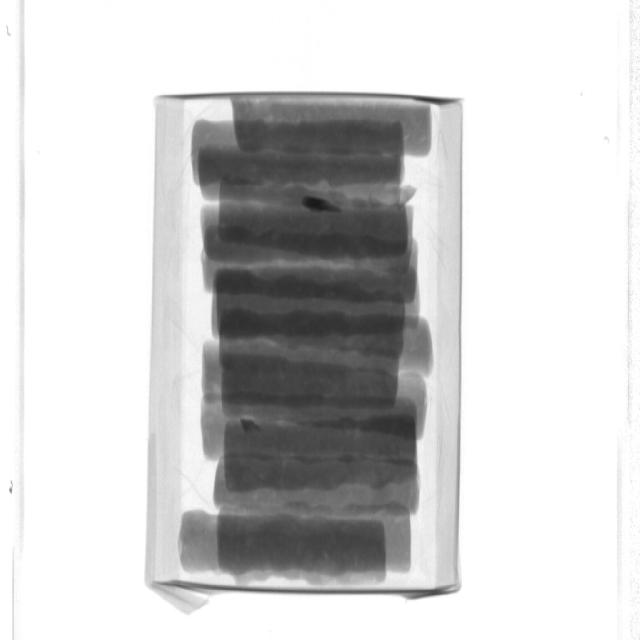ym: (304, 197, 342, 214), (242, 419, 266, 434)
